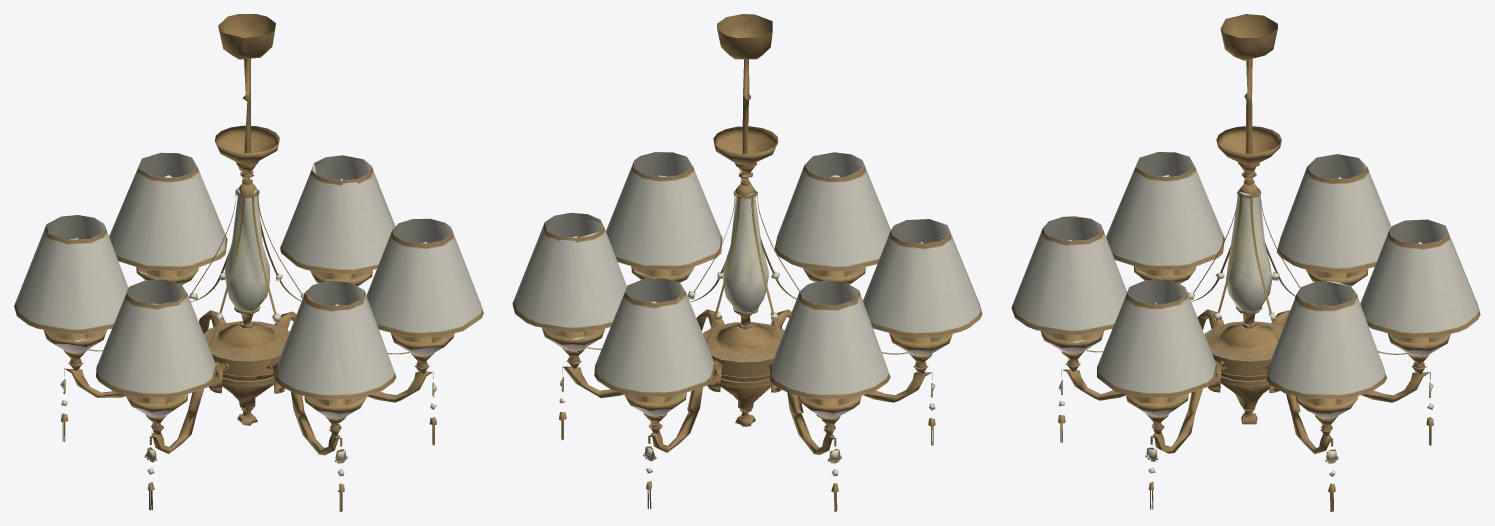
Rendered from chandelier.glb.
The picture shows the model from 3 angles, left to right: view 1: azimuth 30°, elevation 25°; view 2: azimuth 150°, elevation 25°; view 3: azimuth 270°, elevation 25°; orthographic projection.
Parts seen in each view (by area): view 1: Chandelier_01; view 2: Chandelier_01; view 3: Chandelier_01.
Boxes of the visible parts, x1,y1,x2,y2 form: Chandelier_01: (14,14,483,511); Chandelier_01: (512,14,982,511); Chandelier_01: (1011,14,1480,511).
Size of the model in its own units: 0.7426 by 0.7982 by 0.8155.
2 materials, 1 textured.
